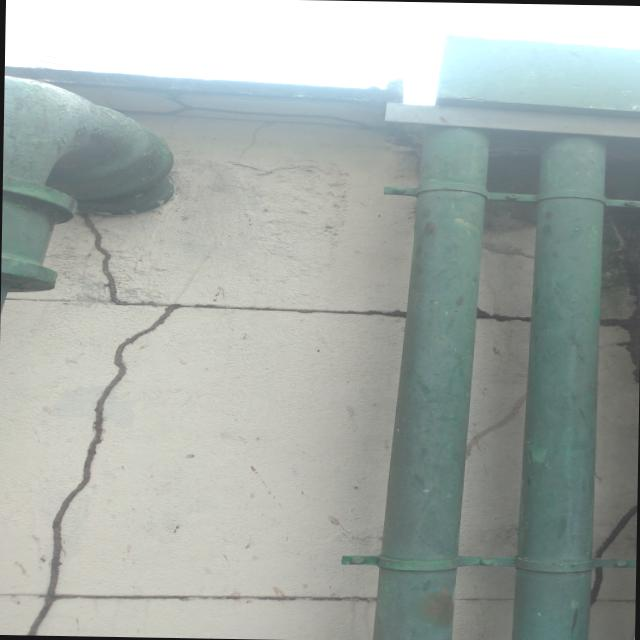gas: (359, 128, 498, 640), (507, 136, 620, 640)
